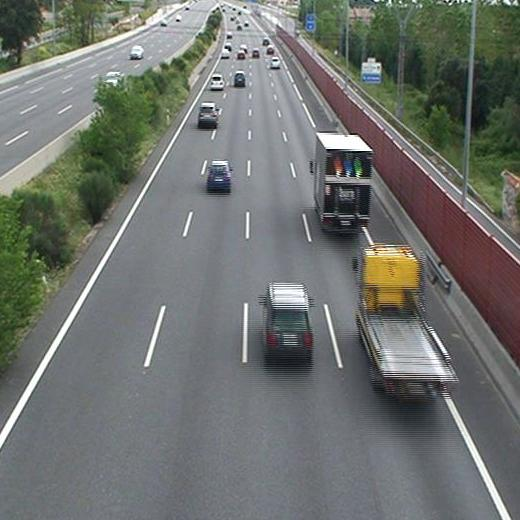car: (263, 284, 313, 352), (207, 161, 232, 187), (199, 103, 217, 122), (210, 74, 225, 87), (234, 71, 246, 83), (270, 57, 282, 68), (220, 49, 230, 58), (236, 50, 245, 58), (251, 50, 259, 57)
small-truck: (356, 246, 456, 395), (313, 132, 371, 231)
